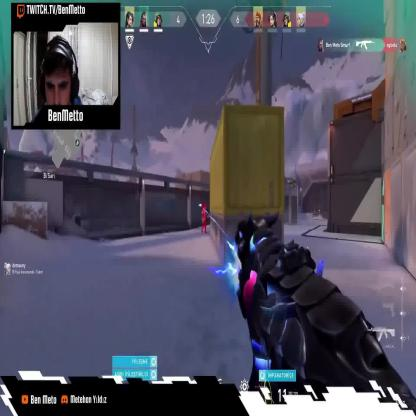enemy: (201, 204, 209, 235)
enemy_head: (203, 203, 207, 210)
